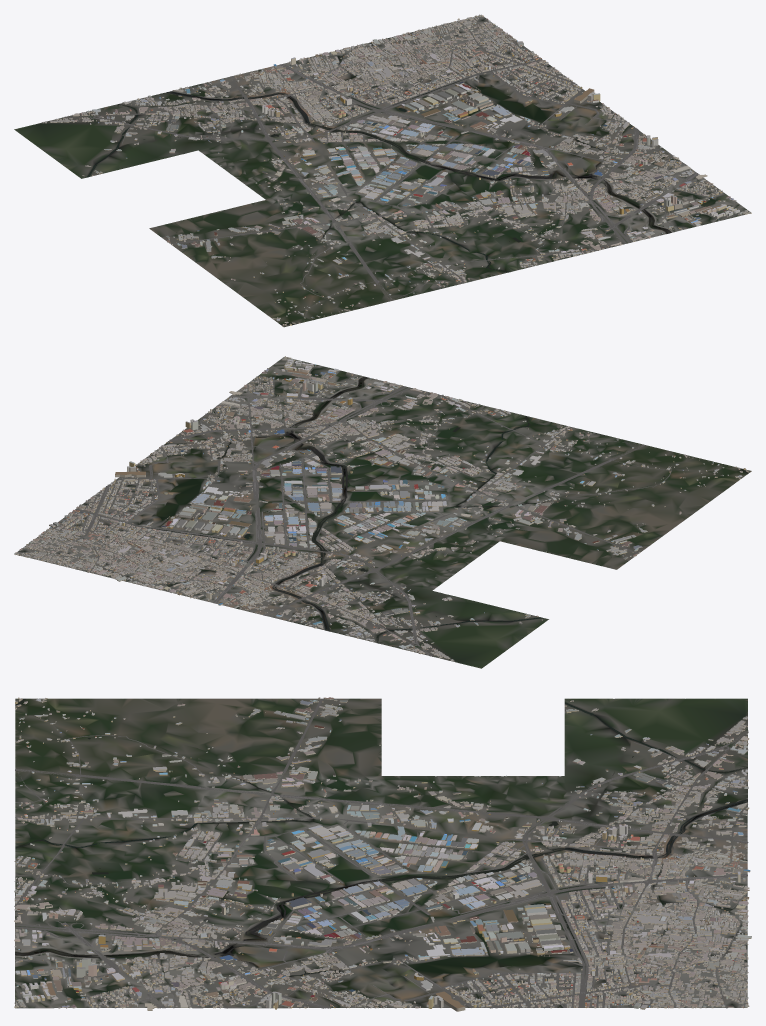
The picture shows the model from 3 angles, top to bottom: view 1: azimuth 30°, elevation 25°; view 2: azimuth 150°, elevation 25°; view 3: azimuth 270°, elevation 25°; orthographic projection. The views are drawn at different scales.
Parts seen in each view (by area): view 1: ground, buildings, roads, water; view 2: ground, buildings, roads, water; view 3: ground, buildings, roads, water.
Boxes of the visible parts, bbox=[...] form: ground: bbox=[14, 16, 750, 327]; buildings: bbox=[42, 14, 751, 326]; roads: bbox=[62, 20, 738, 325]; water: bbox=[87, 55, 671, 324]; ground: bbox=[16, 357, 751, 668]; buildings: bbox=[14, 356, 751, 661]; roads: bbox=[21, 360, 749, 656]; water: bbox=[158, 376, 748, 642]; ground: bbox=[15, 698, 747, 1008]; buildings: bbox=[14, 697, 751, 1011]; roads: bbox=[14, 698, 748, 1008]; water: bbox=[15, 698, 747, 976].
Bounding box in the file's own units: 5675 × 96.98 × 5643.
